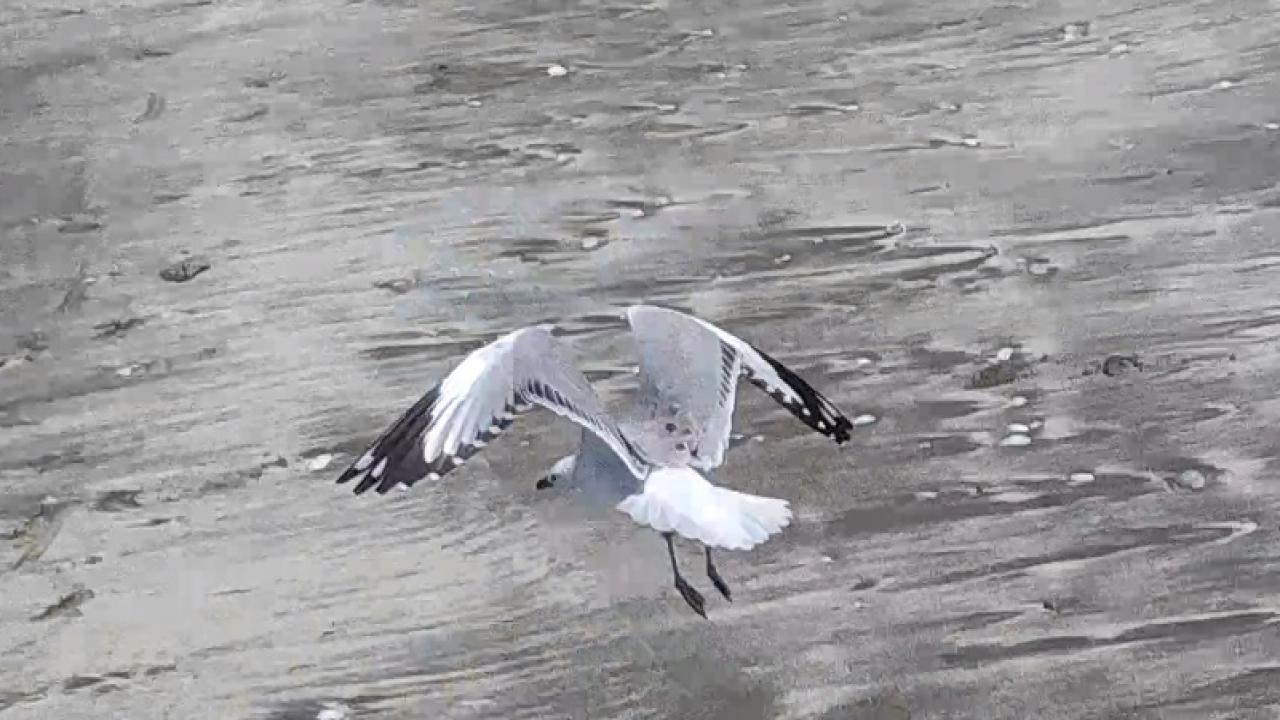Bird: (329, 297, 859, 629)
